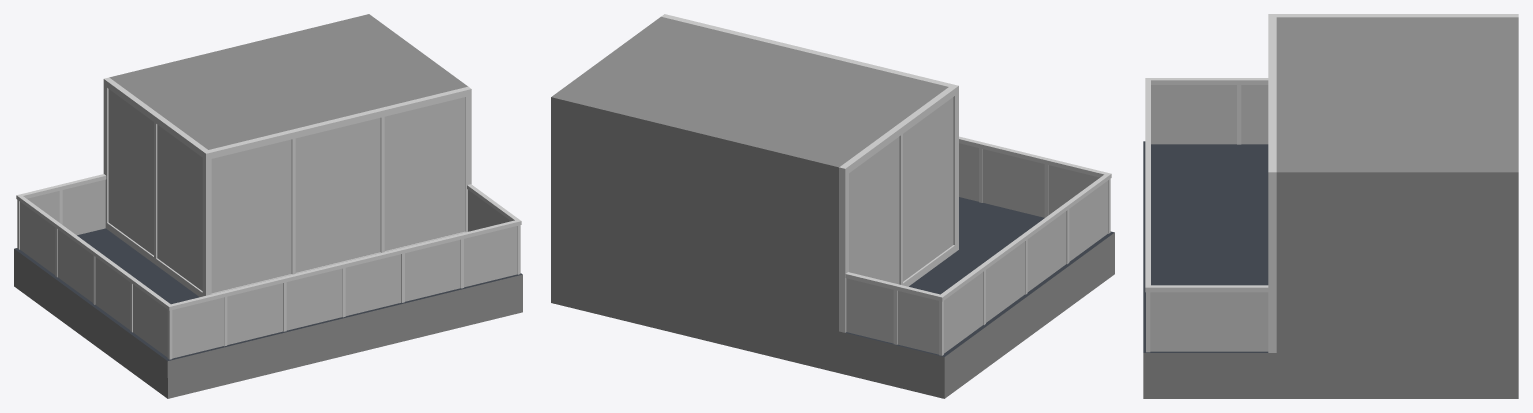
File: Wall_20_Fake_Interior_Corner.FBX
3 views of the same model, side by side, from view 1: azimuth 30°, elevation 25°; view 2: azimuth 150°, elevation 25°; view 3: azimuth 270°, elevation 25° (orthographic). The views are drawn at different scales.
Parts seen in each view (by area): view 1: Wall_20_Fake_Interior_Corner; view 2: Wall_20_Fake_Interior_Corner; view 3: Wall_20_Fake_Interior_Corner.
Boxes of the visible parts, x1,y1,x2,y2 form: Wall_20_Fake_Interior_Corner: (14,14,522,398); Wall_20_Fake_Interior_Corner: (551,14,1114,398); Wall_20_Fake_Interior_Corner: (1143,14,1518,398).
Size of what is drawn, in the model's own units: 360 by 180 by 270.
